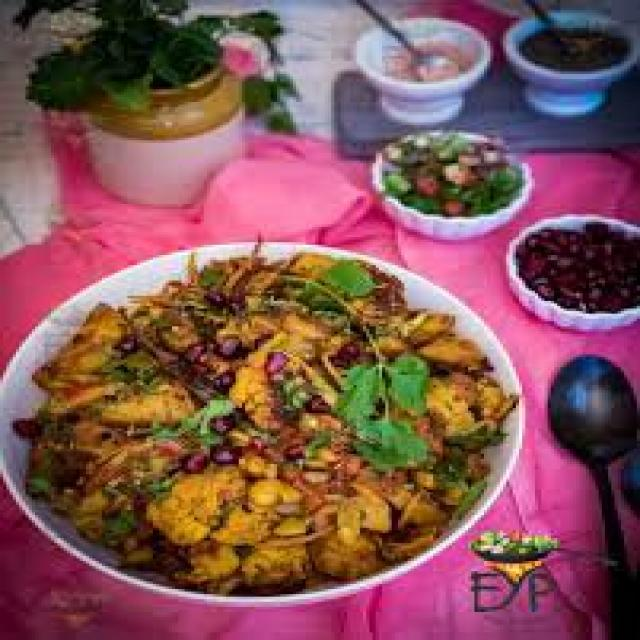Aloo Gobi: (66, 265, 456, 572)
